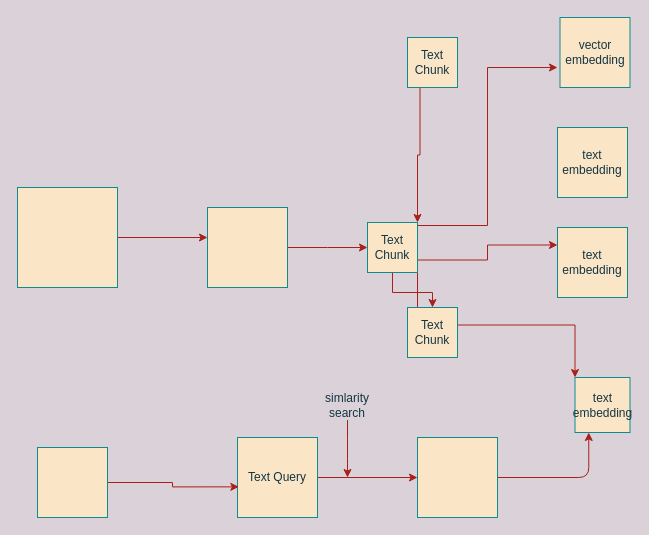
Some shapes in this 649 by 535 pixel diagram are drawn without their labels. Each missing label, with the centre of its shape:
"Human query" goes at pixel 72 482.
"PDF File" goes at pixel 67 237.
"Read The document" goes at pixel 247 247.
"Vector database" goes at pixel 457 477.
